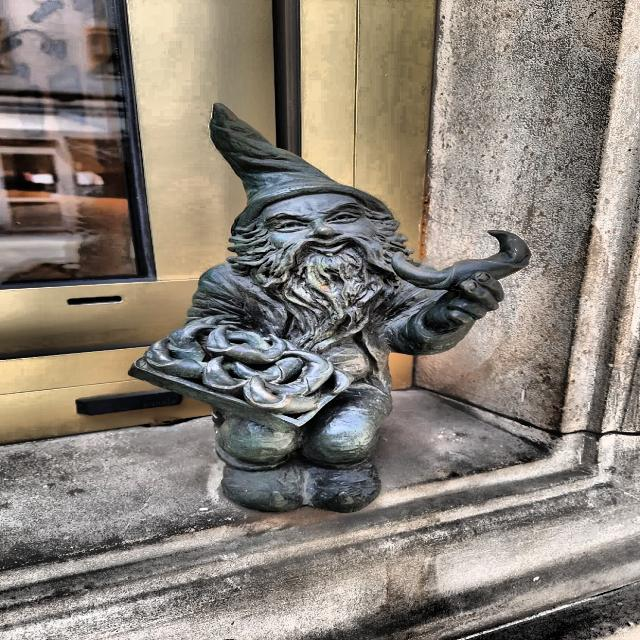Rogalik: (128, 104, 531, 515)
